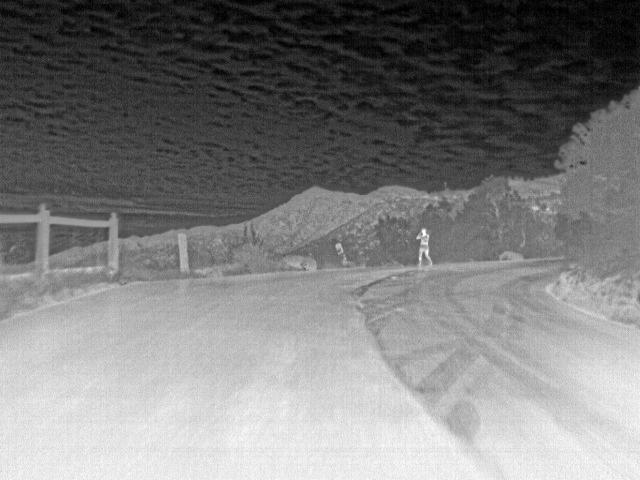person: (417, 227, 436, 264)
